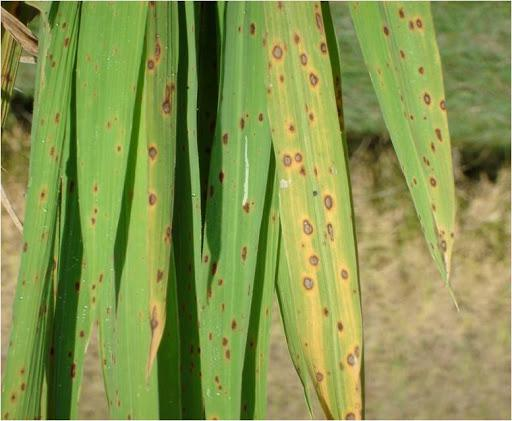0 BrownSpot: (206, 328, 242, 365), (431, 218, 459, 258), (308, 11, 332, 56), (397, 1, 426, 36), (266, 35, 290, 64), (102, 118, 123, 149), (144, 299, 165, 330), (147, 264, 168, 295), (162, 221, 183, 252), (142, 185, 163, 216), (141, 135, 162, 166), (159, 82, 180, 113), (146, 39, 167, 70), (1, 386, 22, 417), (40, 47, 61, 78), (12, 362, 33, 393), (10, 237, 31, 268), (29, 177, 50, 208), (47, 100, 68, 131), (225, 308, 246, 339), (205, 270, 226, 301), (233, 235, 254, 266), (236, 191, 257, 222), (204, 169, 225, 200), (214, 124, 235, 155), (230, 105, 251, 136), (251, 101, 272, 132), (236, 10, 257, 41), (340, 343, 364, 370), (307, 364, 333, 387), (61, 358, 83, 384), (207, 373, 230, 397), (301, 66, 325, 88), (84, 199, 102, 228), (87, 273, 106, 300), (55, 20, 72, 47), (41, 143, 63, 163), (314, 300, 335, 320), (86, 177, 105, 199), (427, 123, 447, 143), (376, 17, 393, 40), (295, 51, 319, 67), (416, 87, 435, 107), (302, 103, 320, 124), (332, 319, 350, 340), (323, 221, 341, 242), (336, 266, 354, 287), (303, 250, 321, 271), (301, 214, 319, 235), (322, 193, 340, 214), (283, 145, 301, 166), (299, 275, 317, 296), (410, 64, 430, 79), (338, 408, 360, 421), (395, 44, 410, 61), (325, 164, 340, 178), (75, 324, 88, 340), (284, 121, 300, 133), (274, 1, 287, 12), (430, 172, 437, 191), (294, 27, 301, 46), (410, 175, 421, 187), (311, 164, 319, 180), (409, 111, 416, 124)
